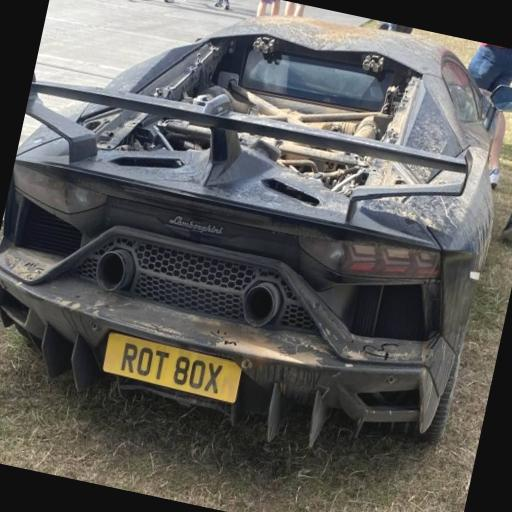numberplates: (103, 333, 241, 403)
